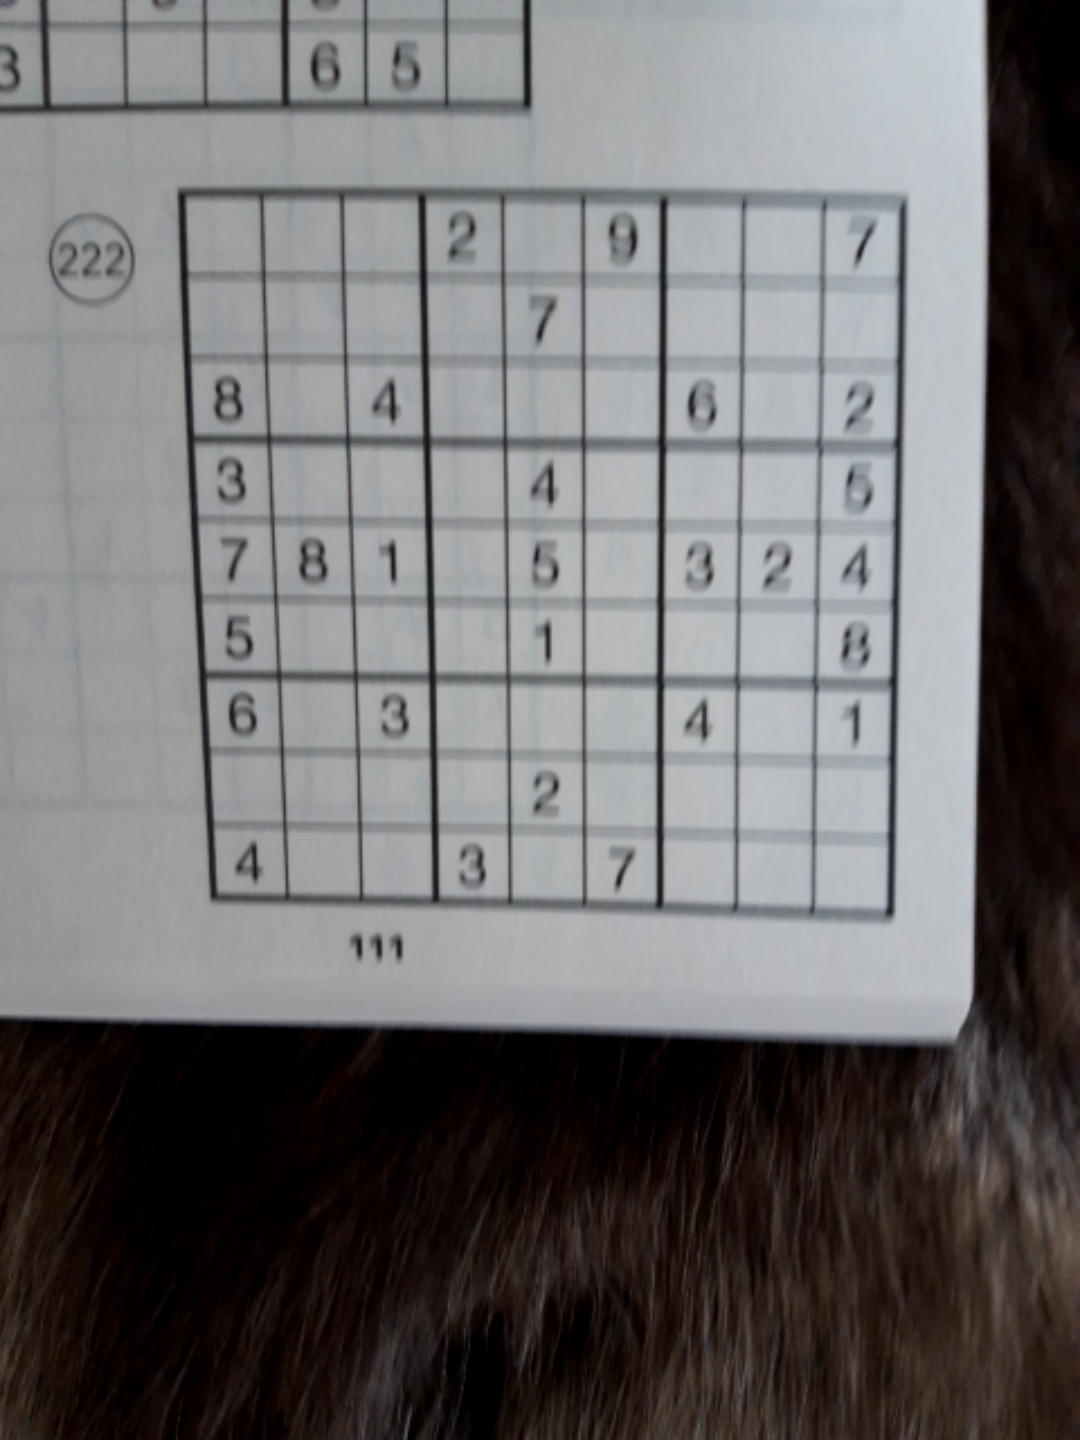sudoku: (177, 184, 908, 921)
